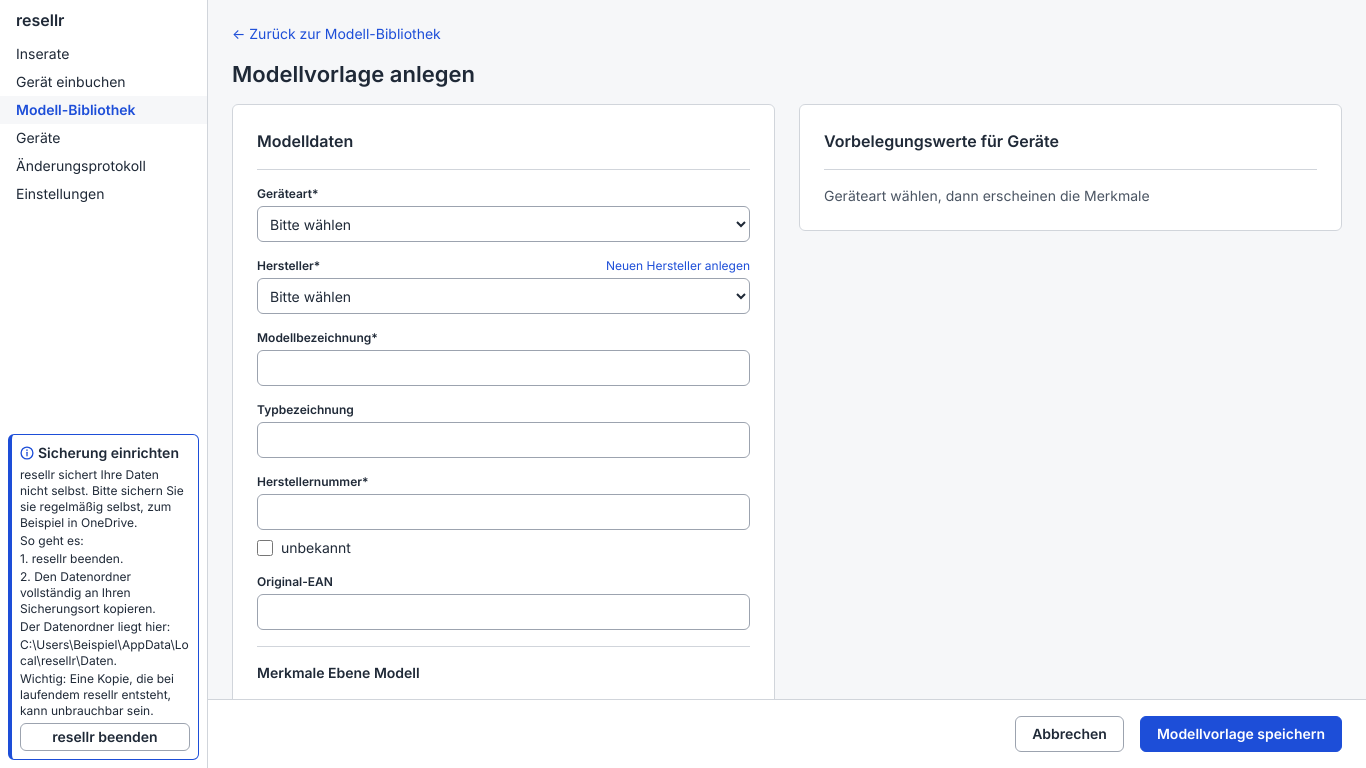
Test: UI-008 manufacturer dialog opened from UI-007 (CU-115, CU-114) › UI-008.default DER-50-06 "Neuen Hersteller anlegen" opens the dialog with the focus in "Name des Herstellers"
Step 1. Click the button "Neuen Hersteller anlegen" → (678, 266), box 606,258 -> 750,274
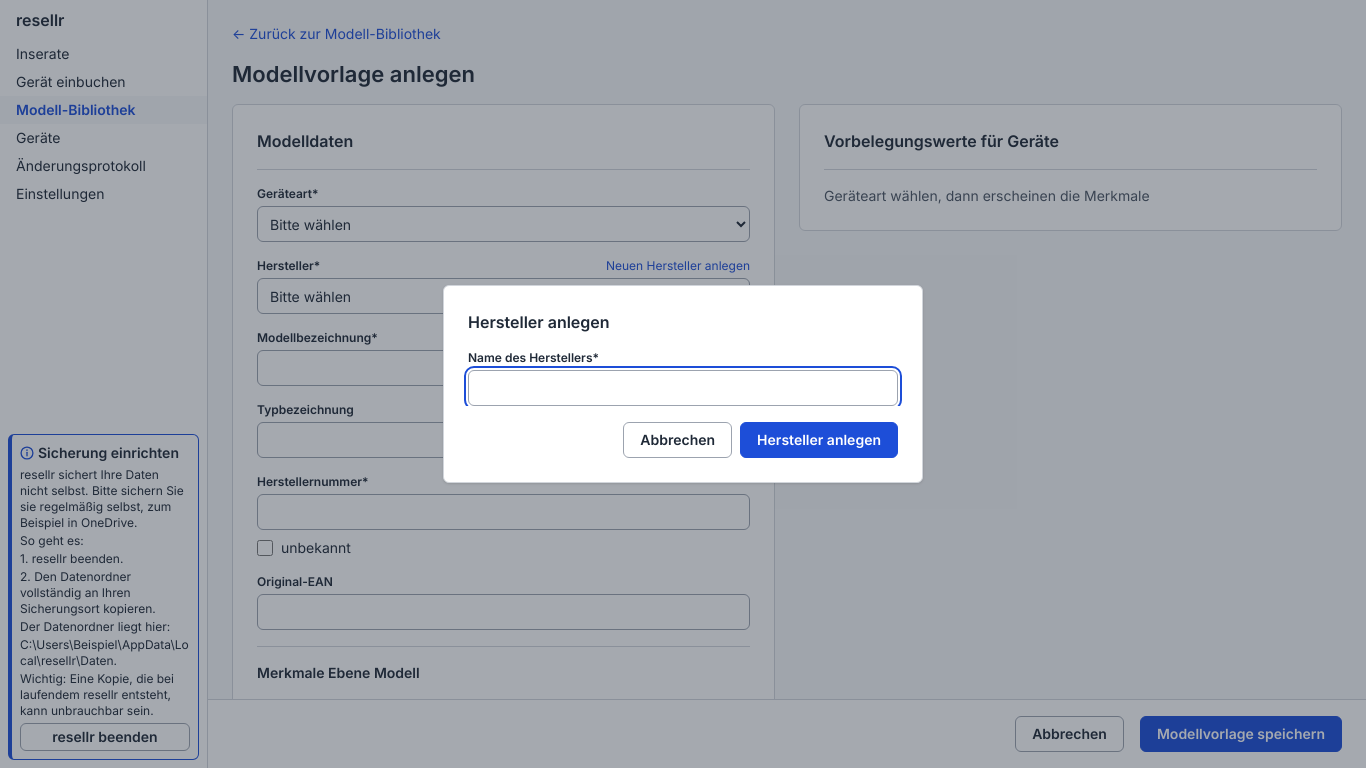
Expected: the field labelled "Name des Herstellers*" is empty, 468,370 -> 898,406
Expected: the button "Hersteller anlegen" is enabled, 740,422 -> 898,458
Expected: the button "Abbrechen" is enabled, 623,422 -> 732,458
